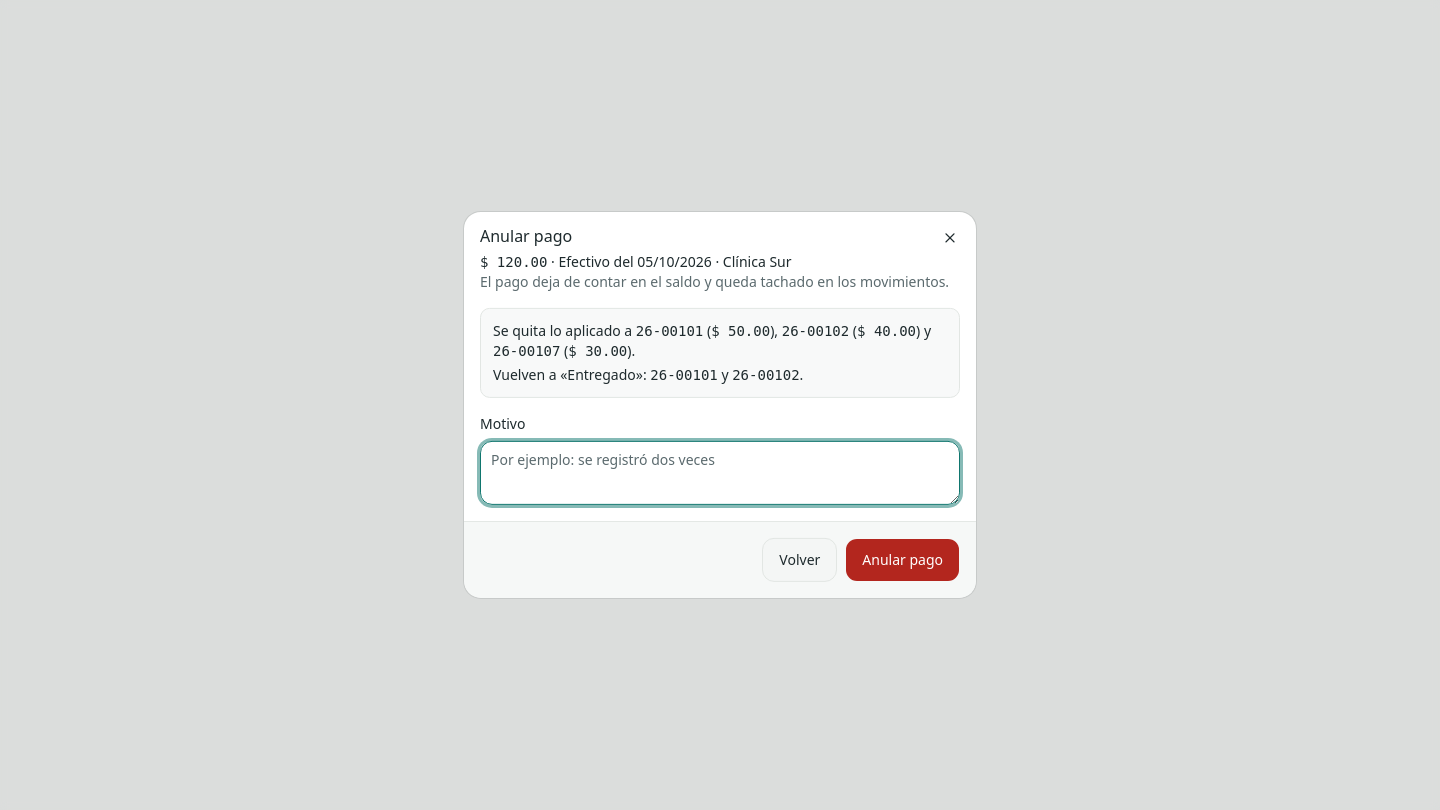
Test: VoidPaymentDialog («Anular pago», CTA-2) › un 422 en el motivo se pinta bajo el campo y el diálogo sigue abierto
Type "Duplicado" into the text box labelled "Motivo" at coordinates (720, 473), box [480,441,960,505]
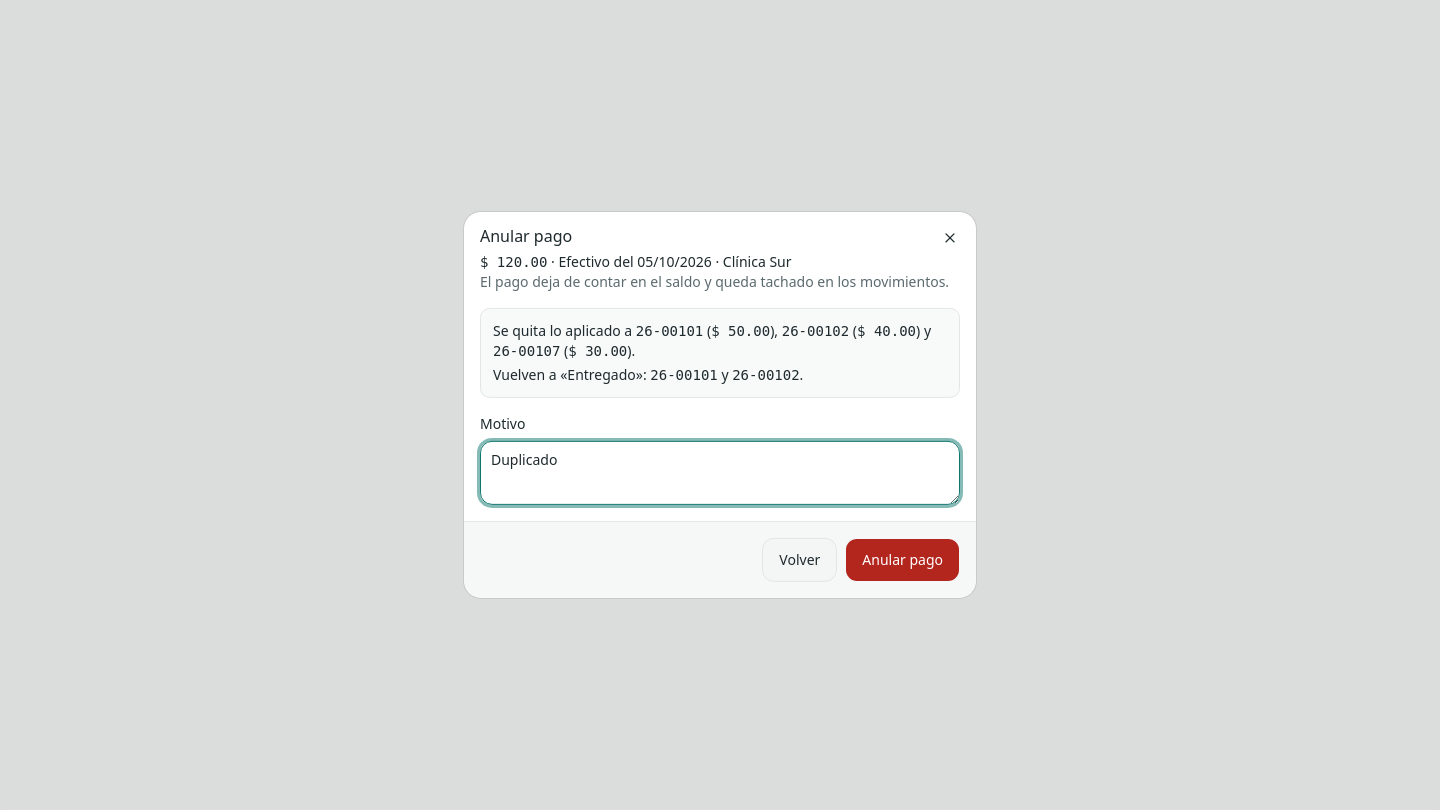
Click the button "Anular pago" at coordinates (903, 560), box [845,538,960,582]
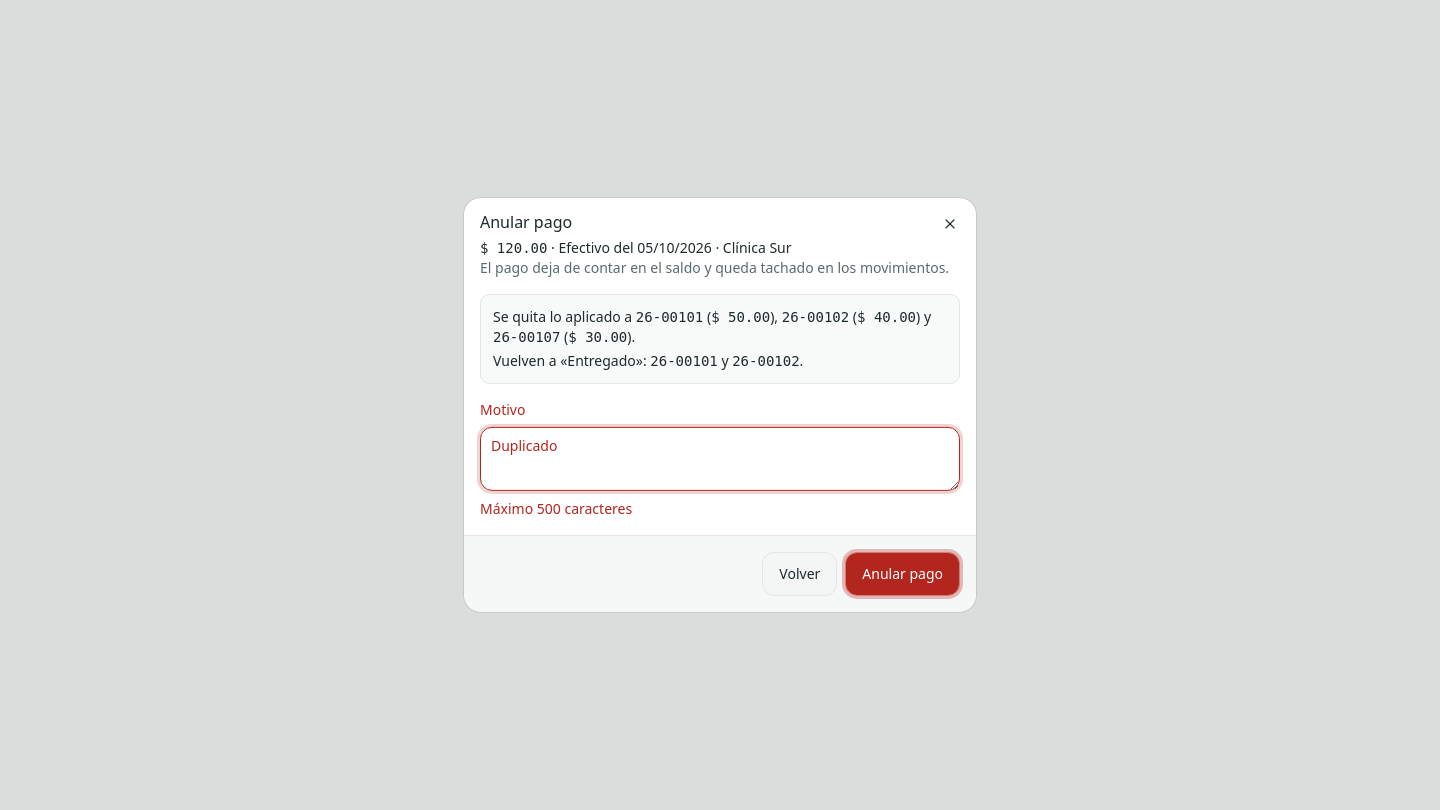
Check: the text "Máximo 500 caracteres" is shown, box [480,499,632,518]
